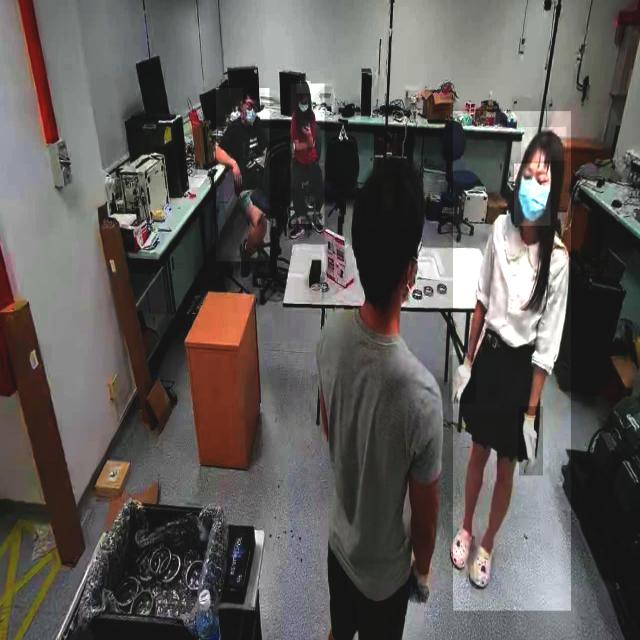face_mask: (514, 163, 550, 226), (242, 101, 256, 129)
hand_glove: (519, 406, 543, 476), (448, 354, 476, 404)
hand_noglove: (233, 161, 245, 187), (301, 120, 313, 134), (307, 135, 317, 148)
head_nohelmet: (354, 155, 424, 233), (520, 127, 566, 162), (243, 84, 259, 100), (296, 81, 310, 94)
person: (311, 150, 447, 631), (453, 111, 571, 612), (216, 88, 270, 262), (290, 83, 324, 225)
